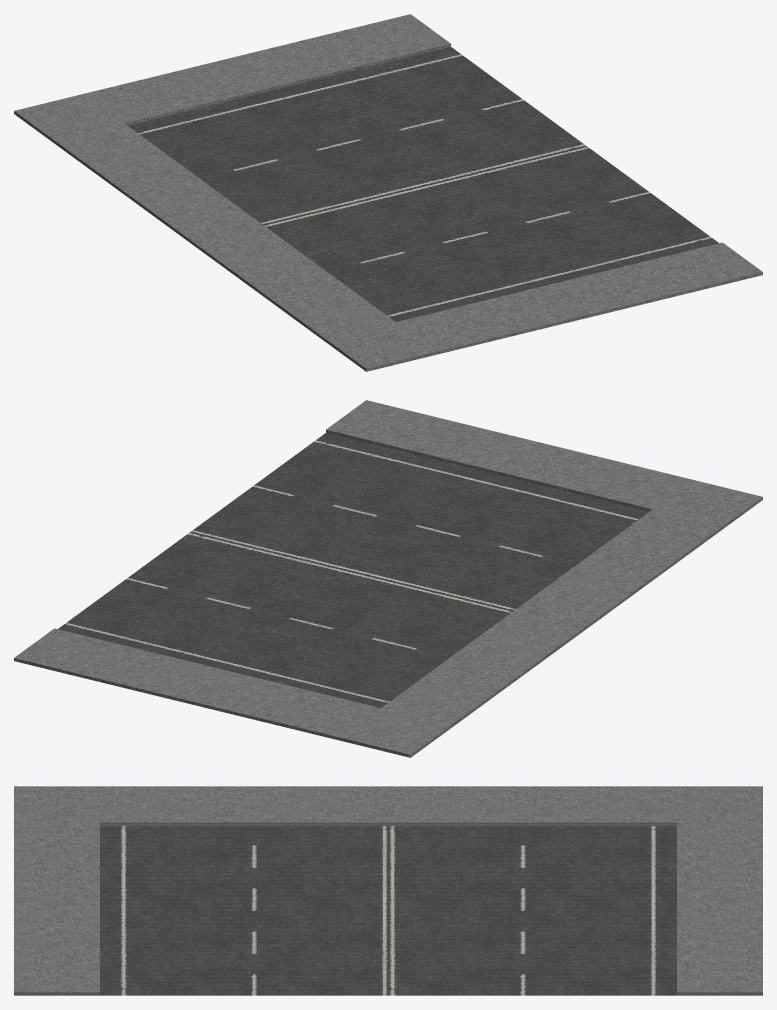
The model's file is Highway_End.obj.
The picture shows the model from 3 angles, top to bottom: view 1: azimuth 30°, elevation 25°; view 2: azimuth 150°, elevation 25°; view 3: azimuth 270°, elevation 25°; orthographic projection. The views are drawn at different scales.
Visible parts, largest first — view 1: Highway_End; view 2: Highway_End; view 3: Highway_End.
Part boxes in pixels (x1,y1,x2,y2): Highway_End: (14, 14, 762, 371); Highway_End: (14, 400, 762, 757); Highway_End: (14, 786, 762, 995).
Bounding box in the file's own units: 15.79 × 0.1182 × 24.29.
